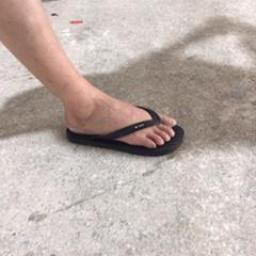Lateral View -Right Foot-: (39, 88, 191, 163)
